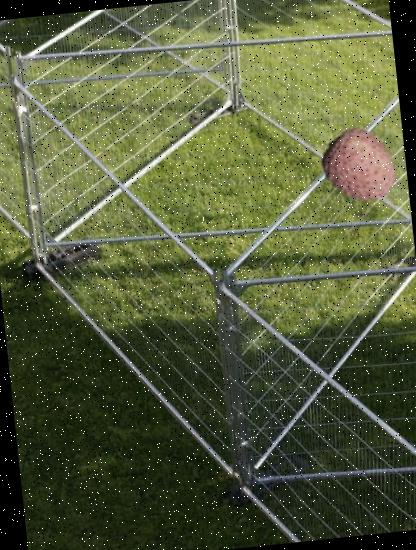Lychee: (316, 125, 402, 212)
